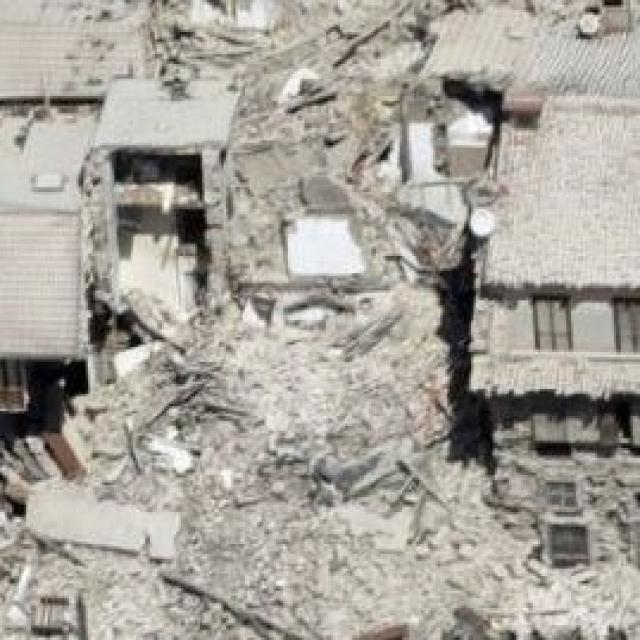collapsed_building: (238, 29, 464, 546), (97, 89, 230, 526)
